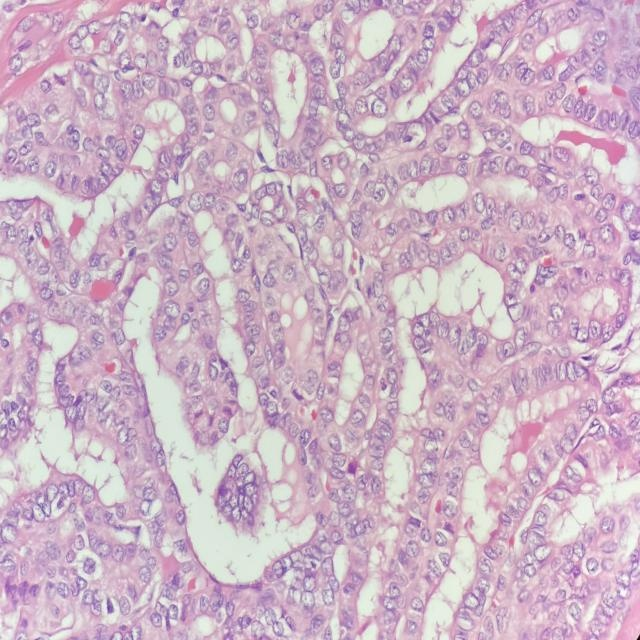TC: (224, 161, 253, 196), (404, 203, 427, 239), (415, 148, 436, 182), (231, 281, 253, 312), (279, 259, 301, 289), (328, 239, 349, 268), (372, 323, 396, 348), (259, 265, 278, 296), (366, 274, 385, 304), (372, 417, 397, 439), (195, 270, 213, 300), (434, 319, 454, 346), (161, 296, 182, 321), (348, 407, 369, 432), (256, 209, 279, 231), (442, 197, 458, 228), (335, 310, 354, 336), (428, 364, 446, 390), (330, 179, 351, 201), (323, 359, 344, 380), (214, 416, 232, 440), (212, 196, 230, 219), (270, 322, 286, 346), (188, 190, 204, 214), (259, 399, 279, 418), (244, 319, 260, 342), (371, 183, 387, 205), (206, 358, 217, 390), (266, 175, 279, 202), (175, 264, 190, 285)
